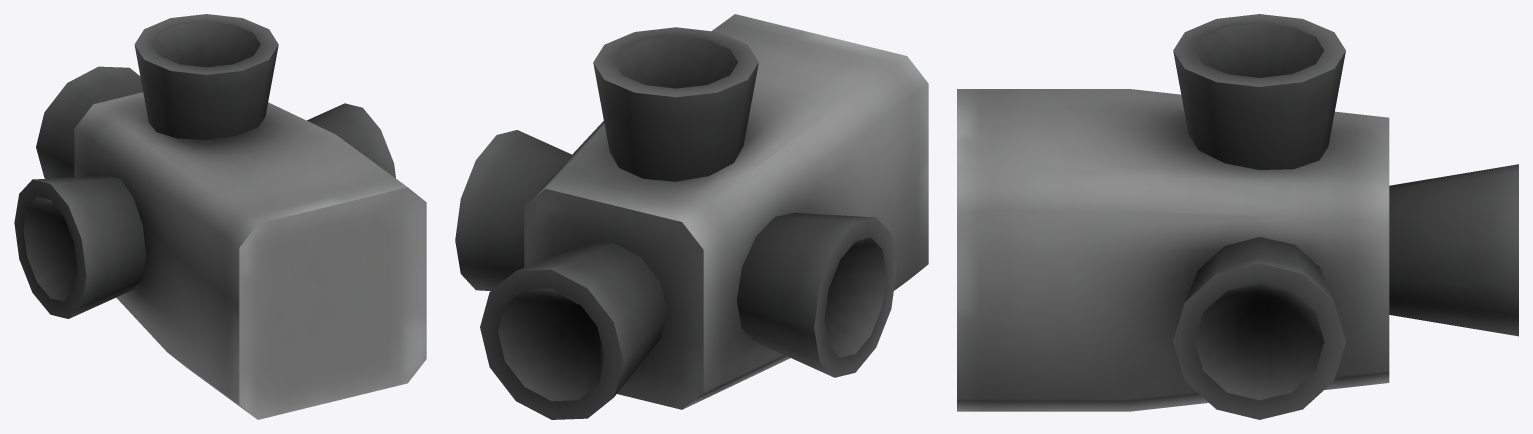
File: octans_rcs_srf_3_extended.obj
3 views of the same model, side by side, from view 1: azimuth 30°, elevation 25°; view 2: azimuth 150°, elevation 25°; view 3: azimuth 270°, elevation 25° (orthographic). The views are drawn at different scales.
Visible parts, largest first — view 1: mesh; view 2: mesh; view 3: mesh.
Boxes of the visible parts, x1,y1,x2,y2 form: mesh: (14,14,426,419); mesh: (455,14,928,419); mesh: (957,14,1518,419).
Bounding box in the file's own units: 0.125 × 0.1013 × 0.1625.
Materials: 1 (1 with a texture image).
